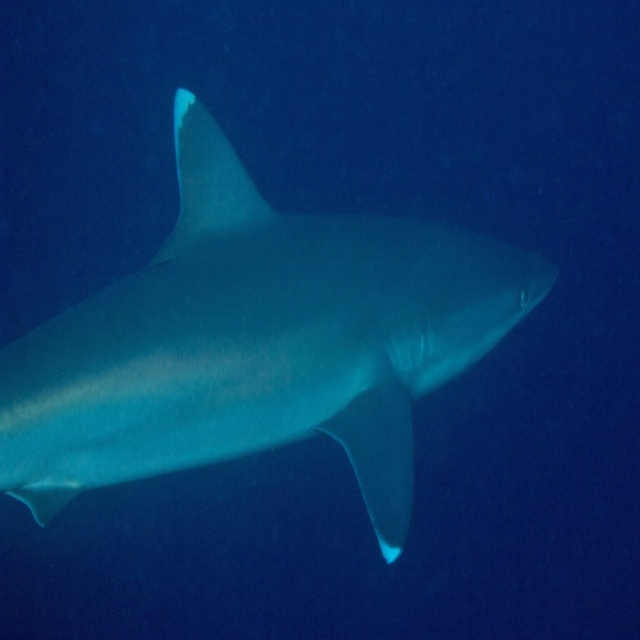Shark: (0, 89, 556, 563)
